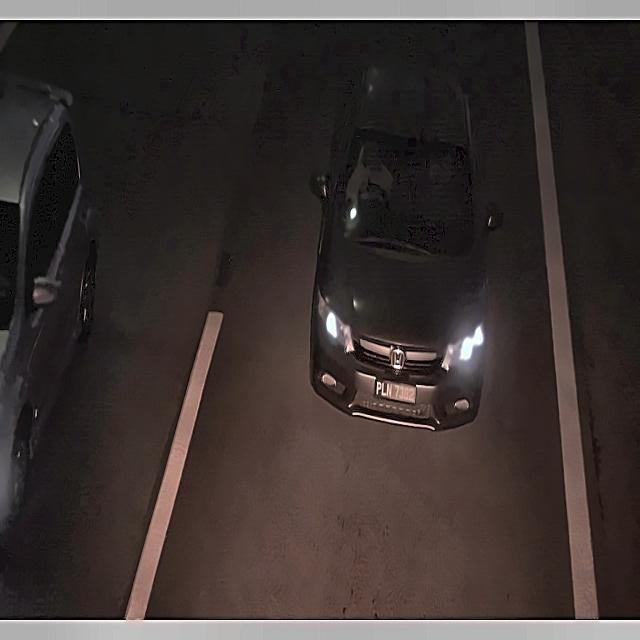car: (369, 371, 422, 408)
